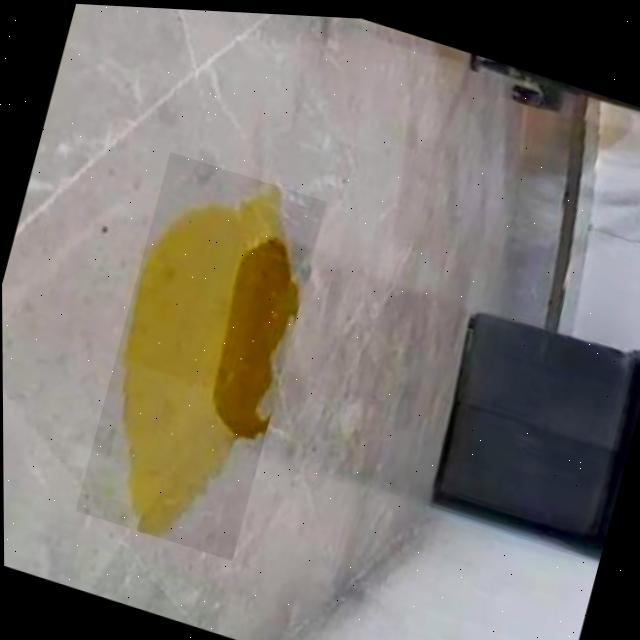spillage: (117, 180, 294, 531)
